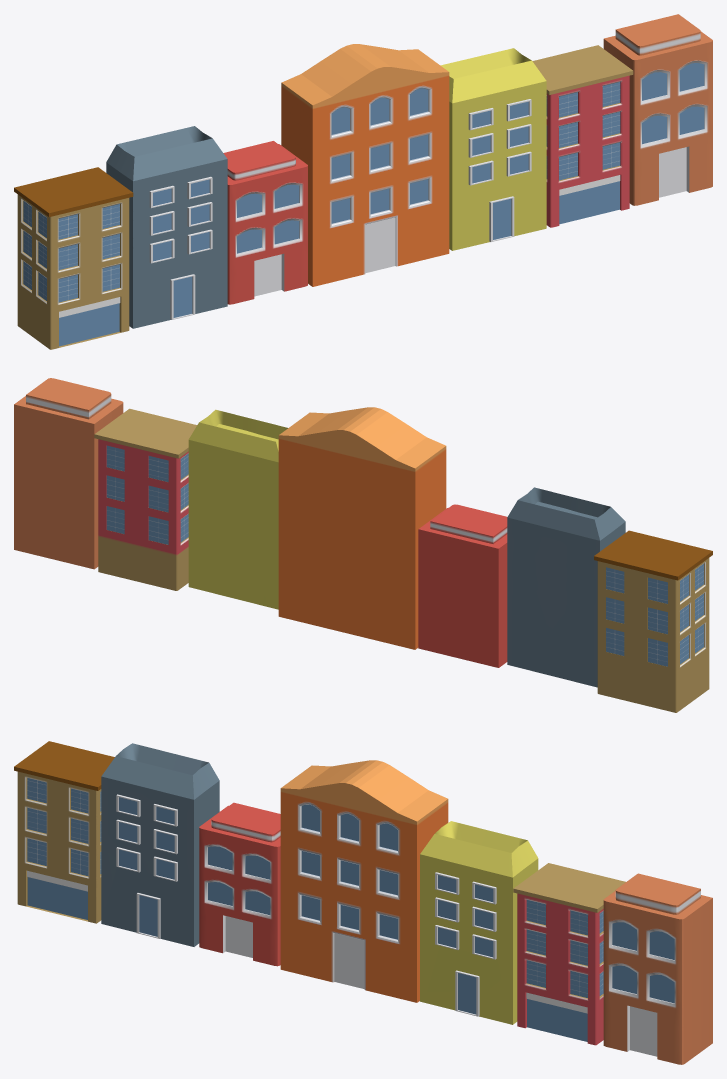
File: buildings-baked.fbx
3 renders of one model, top to bottom at view 1: azimuth 30°, elevation 25°; view 2: azimuth 150°, elevation 25°; view 3: azimuth 330°, elevation 25°, orthographic.
Visible parts, largest first — view 1: building4, building2, Building1, building5, building7, building6, building3; view 2: building4, Building1, building2, building5, building7, building6, building3; view 3: building4, building2, building7, building5, building6, Building1, building3.
Part boxes in pixels (x1=…): building4: x1=281, y1=44, x2=449, y2=286; building2: x1=106, y1=126, x2=227, y2=328; Building1: x1=14, y1=167, x2=133, y2=349; building5: x1=440, y1=48, x2=546, y2=250; building7: x1=603, y1=14, x2=712, y2=205; building6: x1=532, y1=45, x2=633, y2=227; building3: x1=223, y1=141, x2=307, y2=304; building4: x1=278, y1=407, x2=446, y2=649; Building1: x1=594, y1=530, x2=712, y2=712; building2: x1=507, y1=487, x2=625, y2=687; building5: x1=188, y1=409, x2=287, y2=609; building7: x1=14, y1=378, x2=123, y2=569; building6: x1=94, y1=408, x2=197, y2=590; building3: x1=418, y1=504, x2=507, y2=667; building4: x1=280, y1=760, x2=448, y2=1002; building2: x1=101, y1=743, x2=219, y2=946; building7: x1=603, y1=873, x2=712, y2=1064; building5: x1=420, y1=821, x2=538, y2=1024; building6: x1=513, y1=863, x2=625, y2=1045; Building1: x1=14, y1=741, x2=114, y2=923; building3: x1=199, y1=802, x2=280, y2=966.
Size of the model in its own units: 7135 by 2070 by 654.
2 materials, 1 textured.
